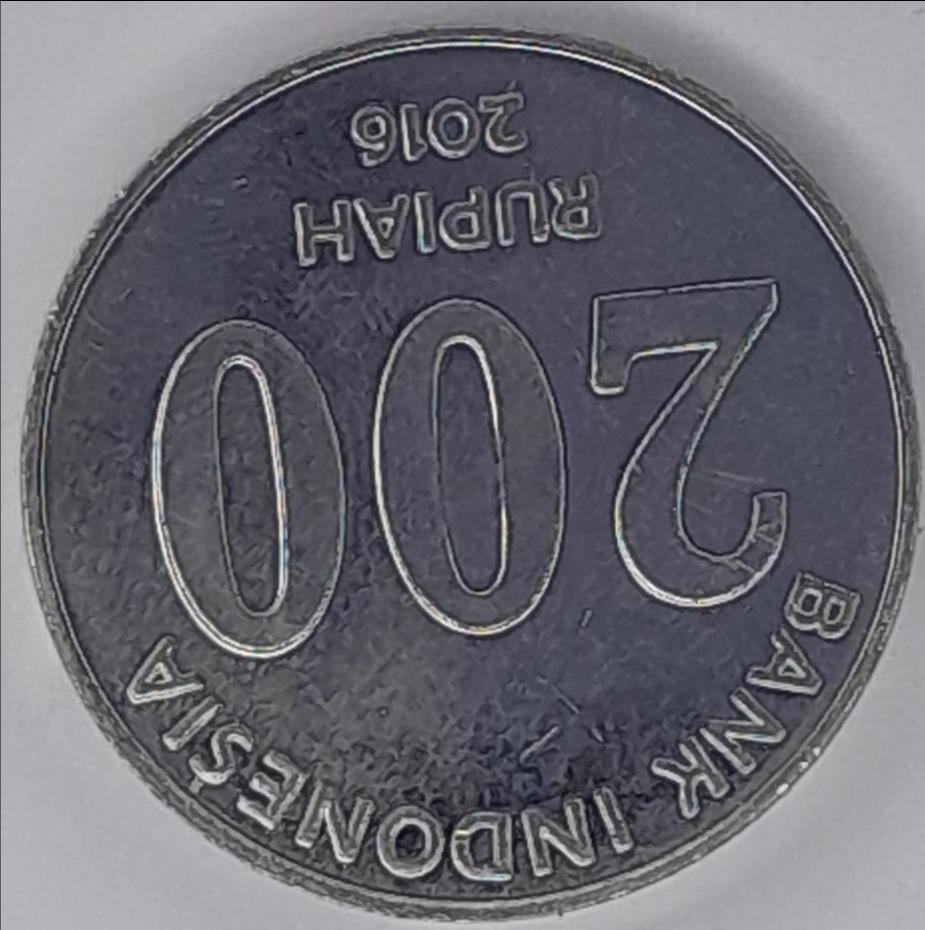coin_200_e2016: (0, 16, 925, 930)
